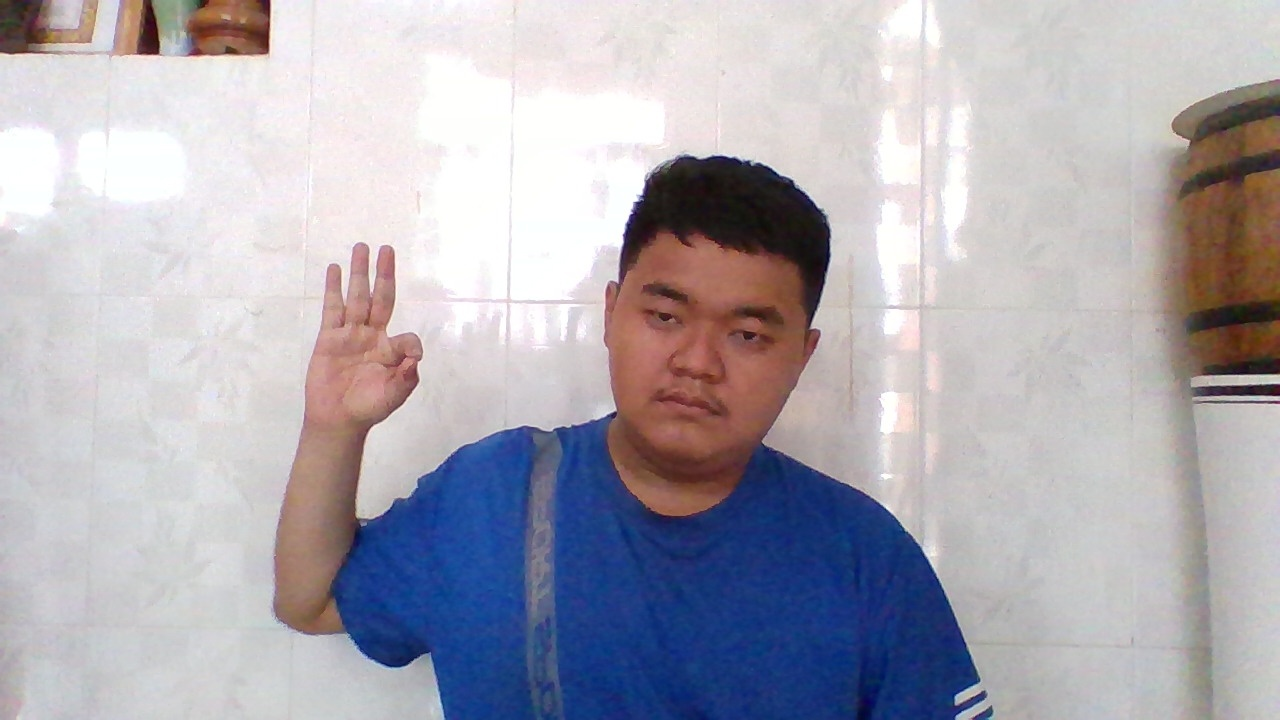T: (314, 232, 429, 440)
